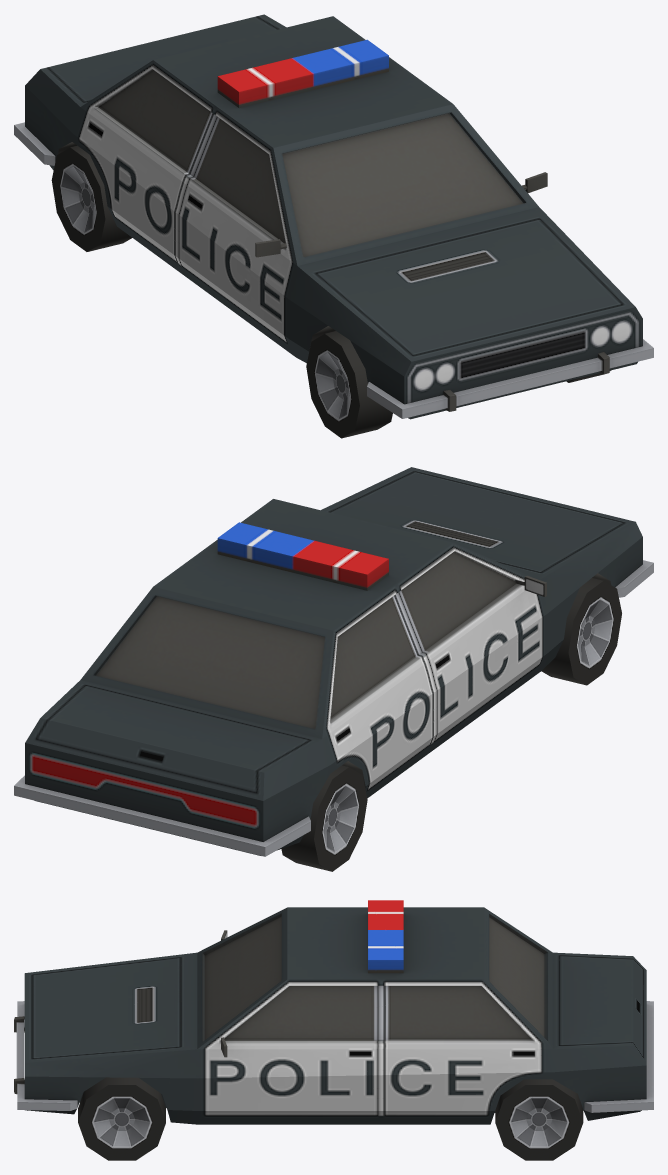
File: VHC0310010.FBX
3 views of the same model, one above another, from view 1: azimuth 30°, elevation 25°; view 2: azimuth 150°, elevation 25°; view 3: azimuth 270°, elevation 25° (orthographic). The views are drawn at different scales.
Visible parts, largest first — view 1: smVHC0310010; view 2: smVHC0310010; view 3: smVHC0310010.
Part boxes in pixels (x1,y1,x2,y2): smVHC0310010: (14,14,653,438); smVHC0310010: (14,467,653,871); smVHC0310010: (14,900,653,1160).
Size of the model in its own units: 2.03 by 1.45 by 4.72.
1 material, 1 textured.
